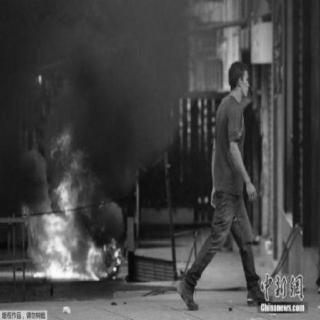Fire: (12, 109, 128, 287)
